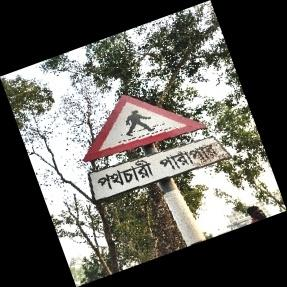Pedestrian-crossing: (83, 94, 231, 201)
